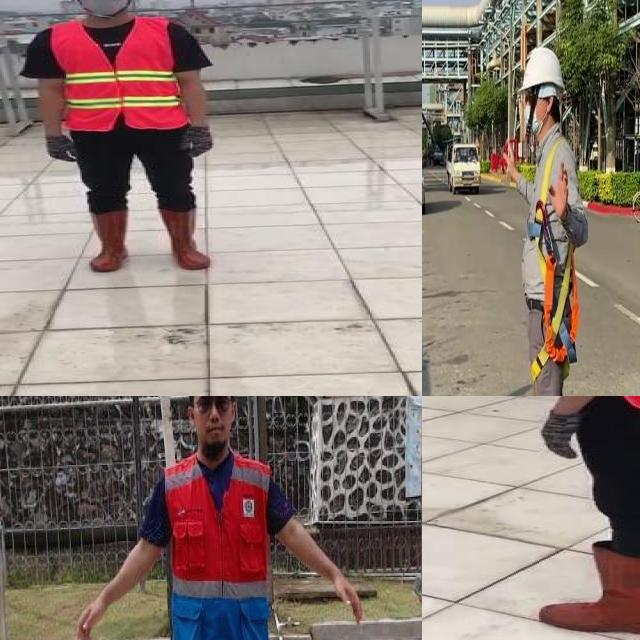Harness: (532, 138, 580, 380)
boots: (542, 541, 640, 636), (158, 207, 214, 271), (84, 207, 134, 273)
face_mask: (71, 0, 131, 15)
hand_glove: (535, 411, 587, 464), (176, 127, 214, 160), (44, 136, 84, 163)
person: (66, 396, 382, 640), (20, 0, 228, 275), (532, 396, 640, 638)
vest: (161, 453, 275, 640), (50, 18, 189, 131)
